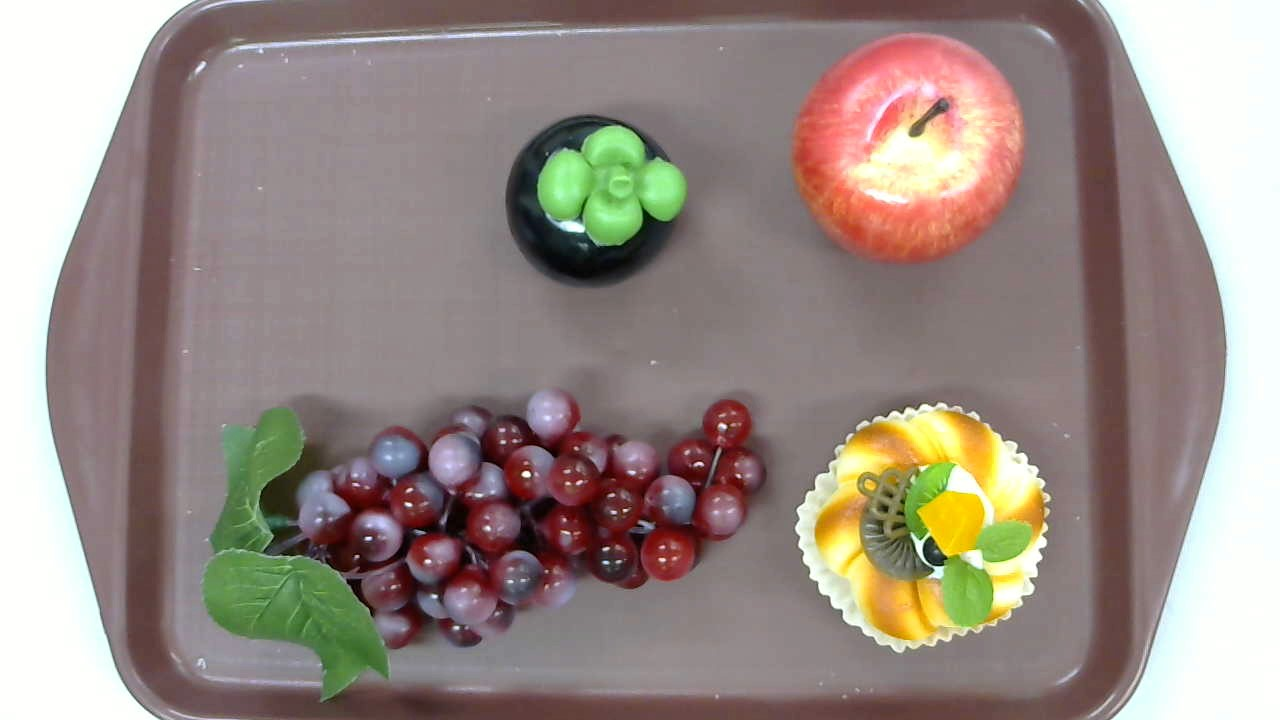fruit tart: (793, 400, 1052, 655)
grape: (202, 385, 766, 703)
mangosteen: (505, 113, 687, 288)
red apple: (789, 31, 1028, 268)
